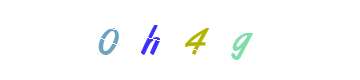0: (111, 0, 191, 80)
4: (140, 0, 220, 80)
G: (157, 0, 237, 80)
H: (134, 0, 214, 80)
